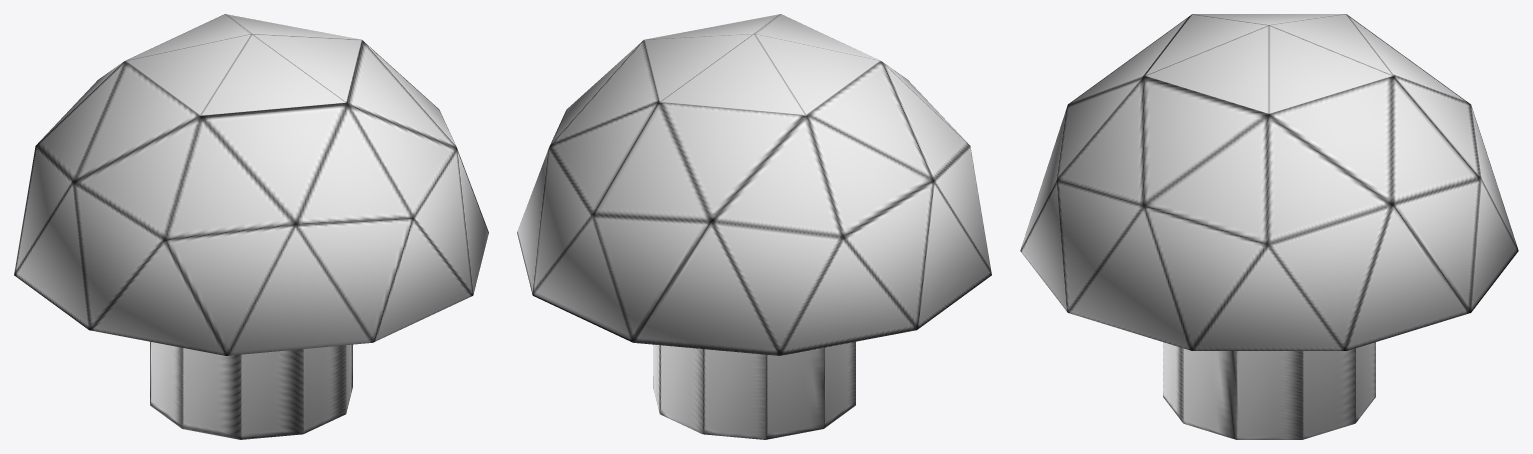
File: Trampolin.fbx
The picture shows the model from 3 angles, left to right: view 1: azimuth 30°, elevation 25°; view 2: azimuth 150°, elevation 25°; view 3: azimuth 270°, elevation 25°; orthographic projection. The views are drawn at different scales.
Visible parts, largest first — view 1: Icosphere; view 2: Icosphere; view 3: Icosphere.
Boxes of the visible parts, x1=… form: Icosphere: x1=14, y1=14, x2=488, y2=439; Icosphere: x1=517, y1=14, x2=991, y2=439; Icosphere: x1=1020, y1=14, x2=1518, y2=439.
Size of the model in its own units: 190 by 165 by 200.
4 materials, 4 textured.
